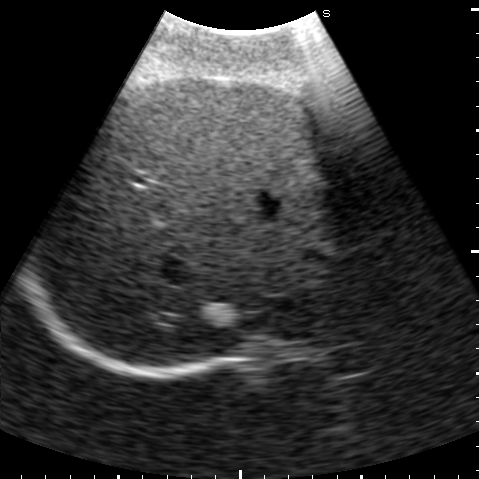S5: (110, 79, 319, 185)
S7: (46, 156, 155, 300)
S8: (98, 163, 352, 362)
Tumor: (201, 304, 233, 323)
